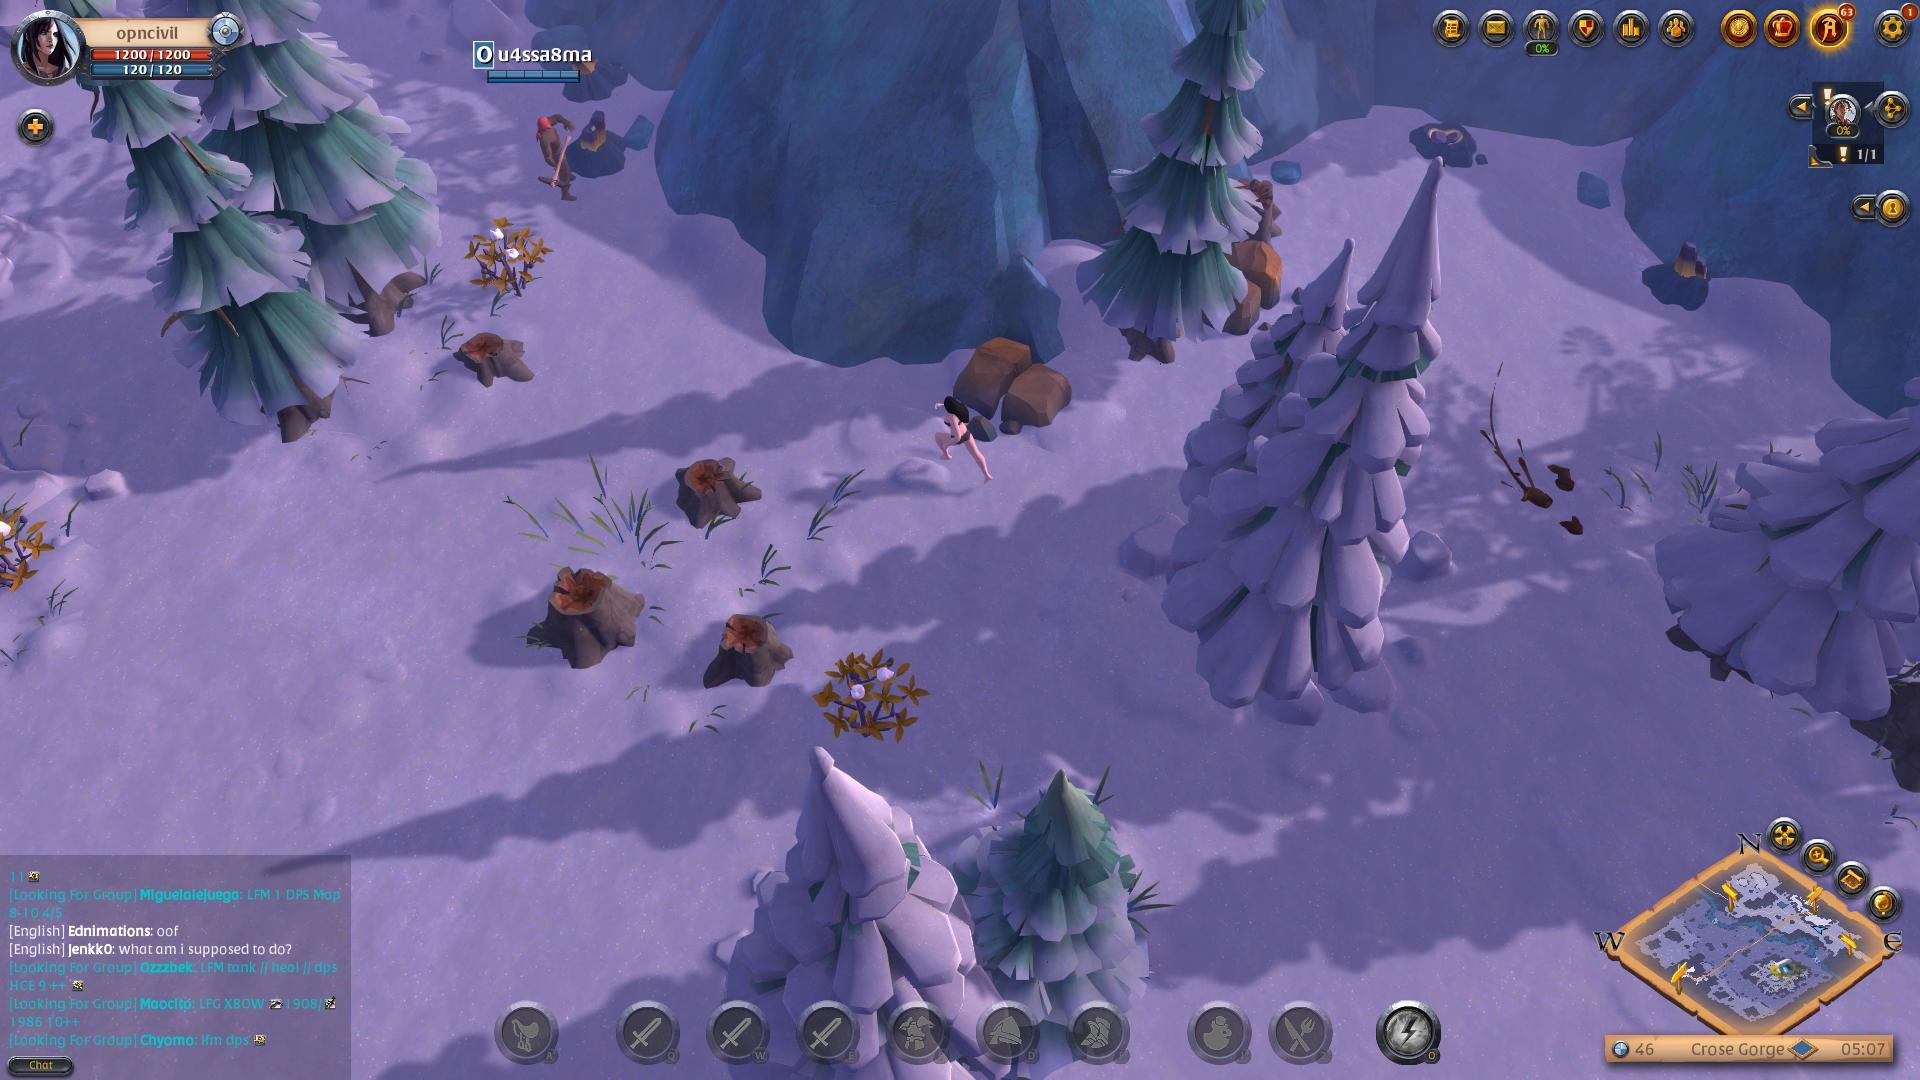copper_ore: (1627, 245, 1747, 315)
cotton: (812, 651, 936, 742), (7, 484, 83, 611), (467, 224, 563, 293)
limestone: (955, 332, 1077, 431)
